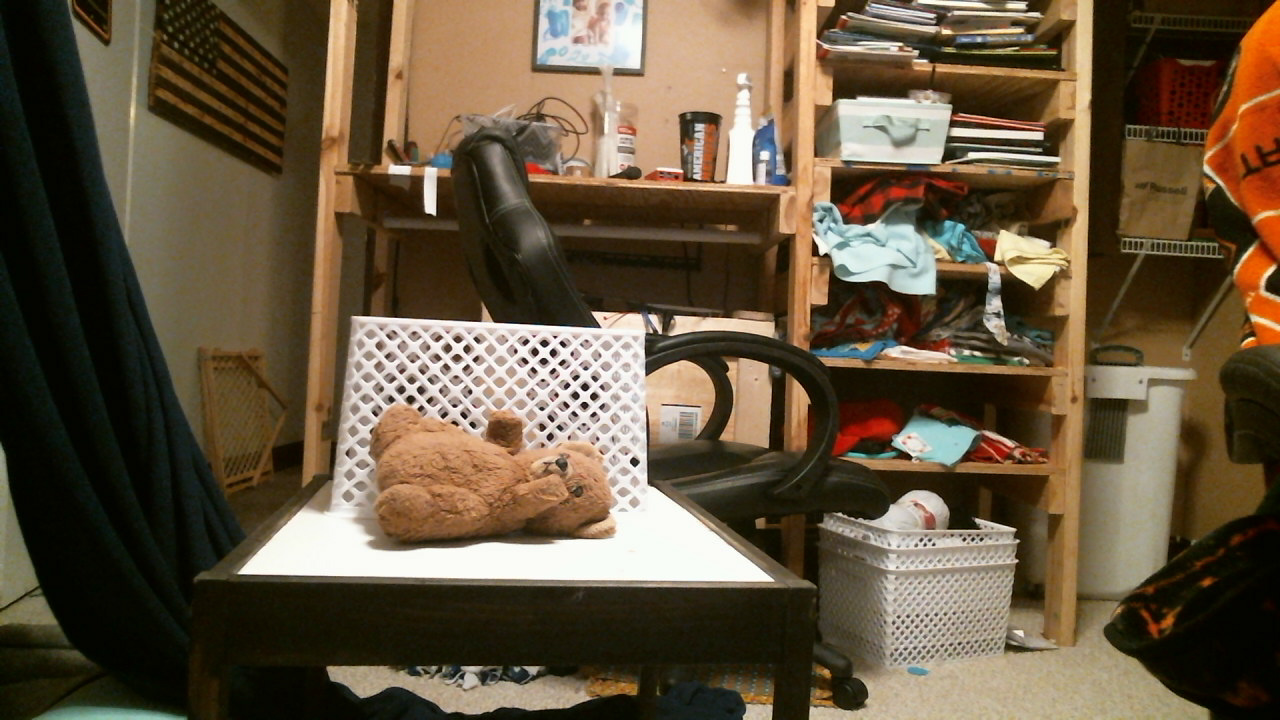Little_Mister_Bear: (540, 455, 598, 511)
